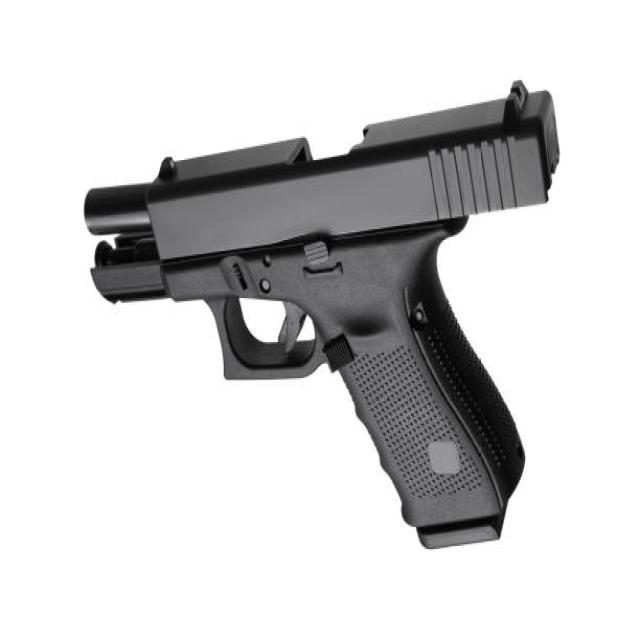pistol: (77, 71, 568, 558)
